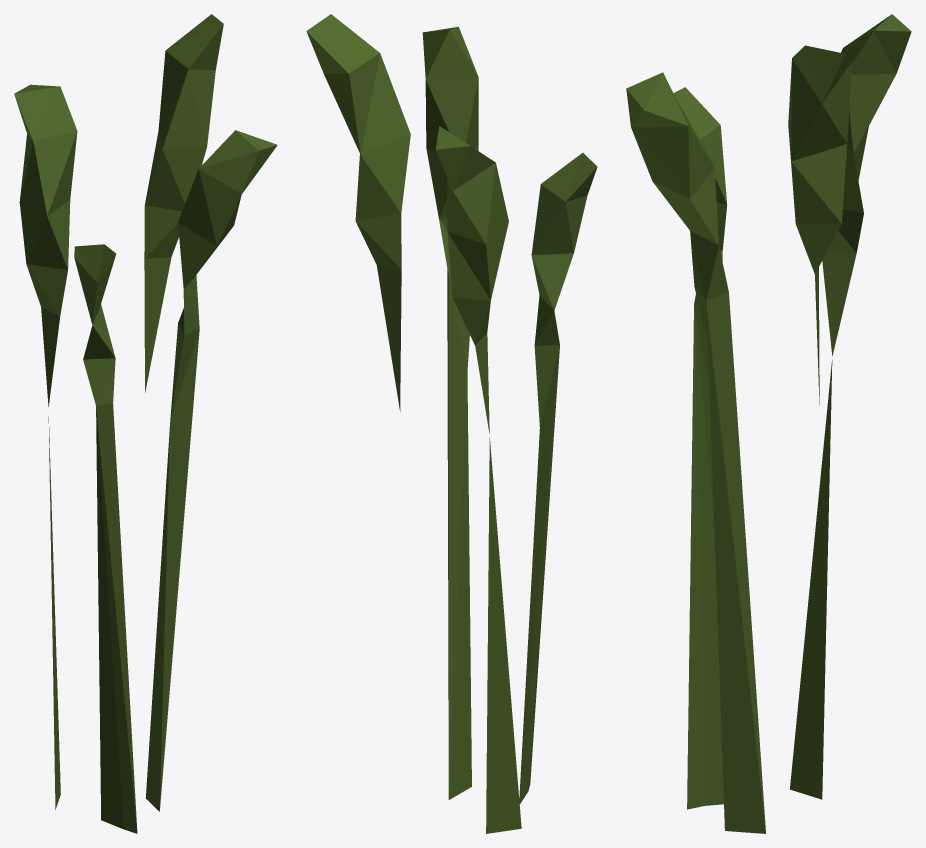
Rendered from tall_grass.glb.
3 renders of one model, left to right at view 1: azimuth 30°, elevation 25°; view 2: azimuth 150°, elevation 25°; view 3: azimuth 270°, elevation 25°, orthographic. The views are drawn at different scales.
Visible parts, largest first — view 1: tall_grass; view 2: tall_grass; view 3: tall_grass.
Part boxes in pixels (x1,y1,x2,y2): tall_grass: [14, 14, 277, 833]; tall_grass: [306, 14, 597, 833]; tall_grass: [626, 14, 911, 833].
Size of the model in its own units: 0.3091 by 1.05 by 0.3237.
